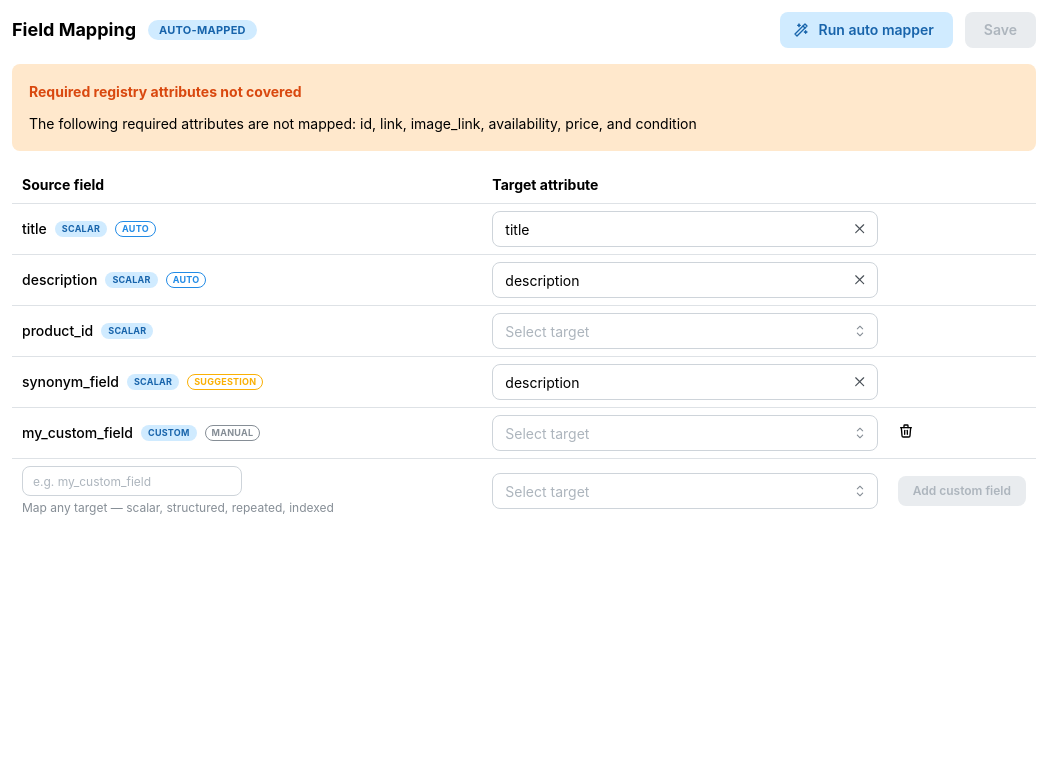
Test: MappingTab › 422 errors render on matching rows and show summary notification
expect the text "product_id" is shown: met, box [22,321,93,341]
Click the dropdown with placeholder "Select target" in the row of "product_id" at (685, 331), box [492,313,878,349]
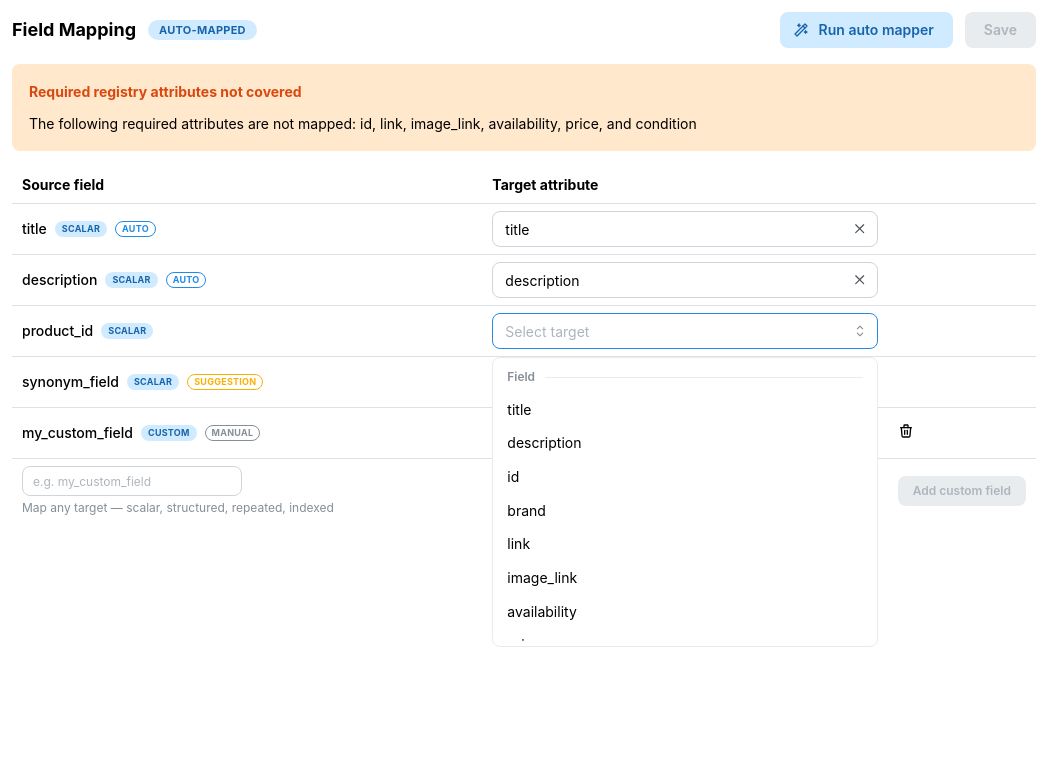
Click the option "id" at (513, 476), box [507,468,519,485]
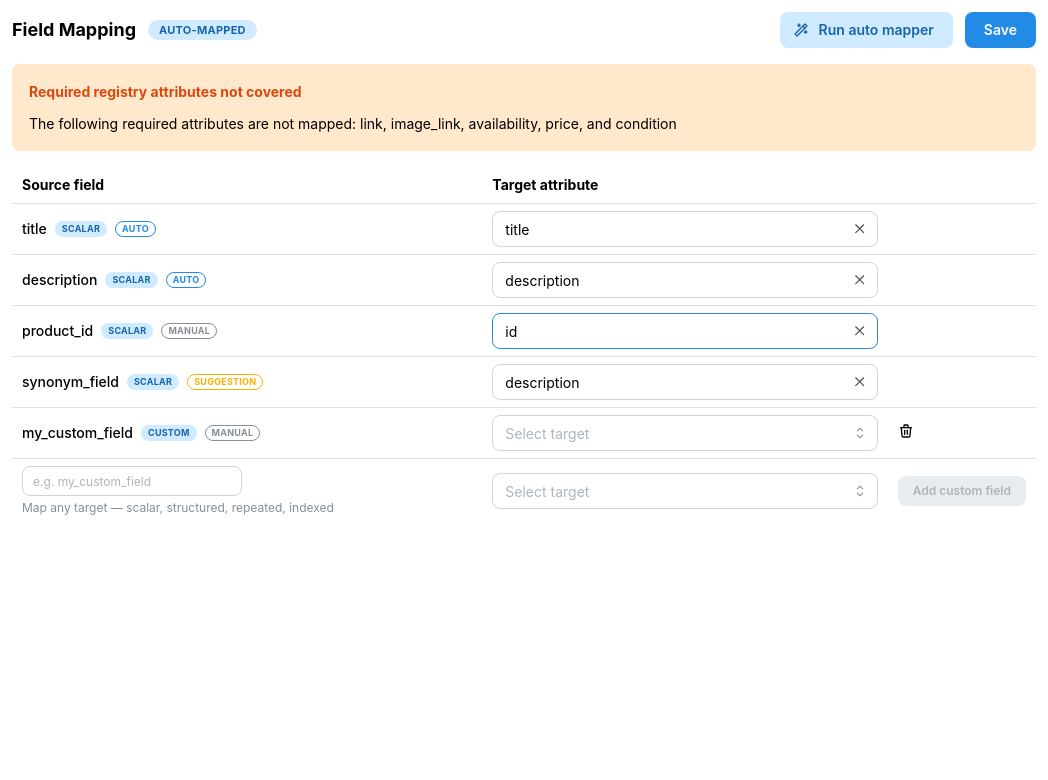
expect the button "Save" is enabled: met
Click the button "Save" at (1000, 30), box [965,12,1036,48]
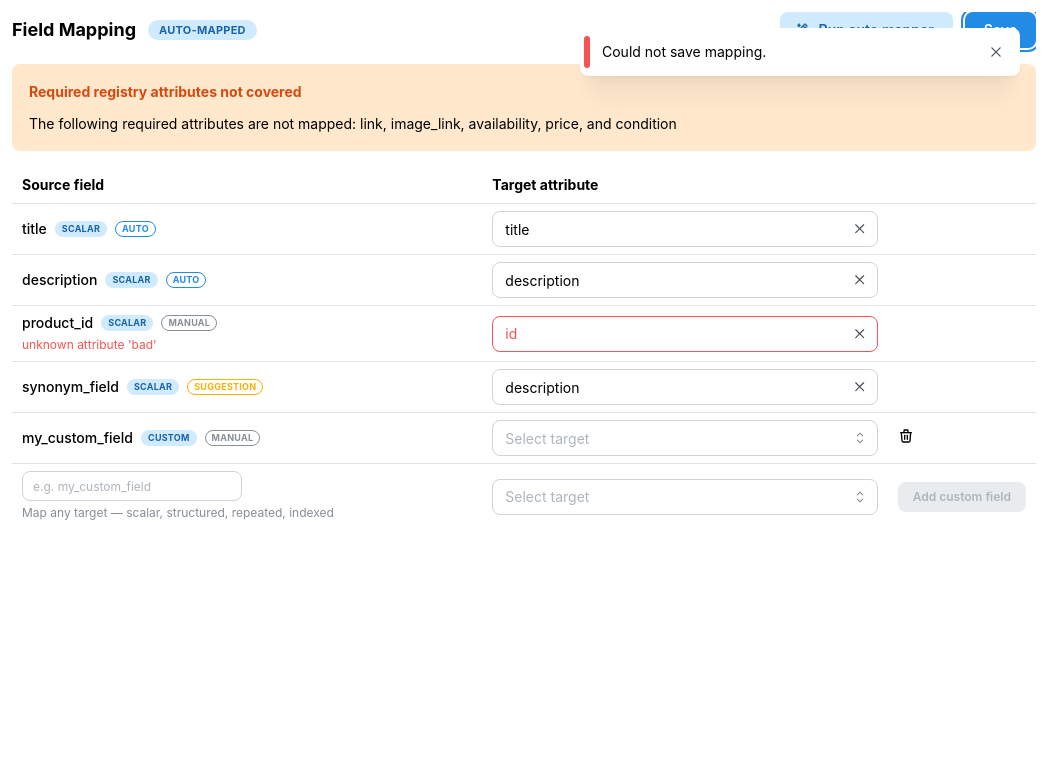
expect the text "unknown attribute 'bad'" is shown: met, box [22,337,157,352]
